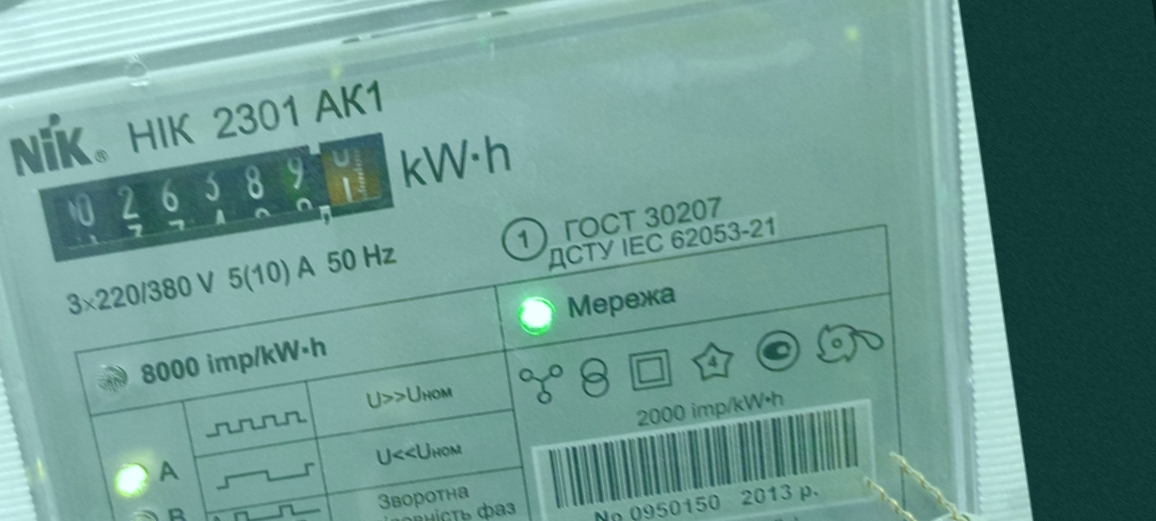0: (70, 187, 99, 229), (330, 145, 352, 168)
1: (339, 172, 356, 204)
2: (114, 180, 142, 221)
3: (200, 167, 222, 204)
6: (157, 173, 181, 214)
8: (242, 160, 267, 201)
9: (284, 153, 307, 190)
screen: (22, 117, 412, 276)
